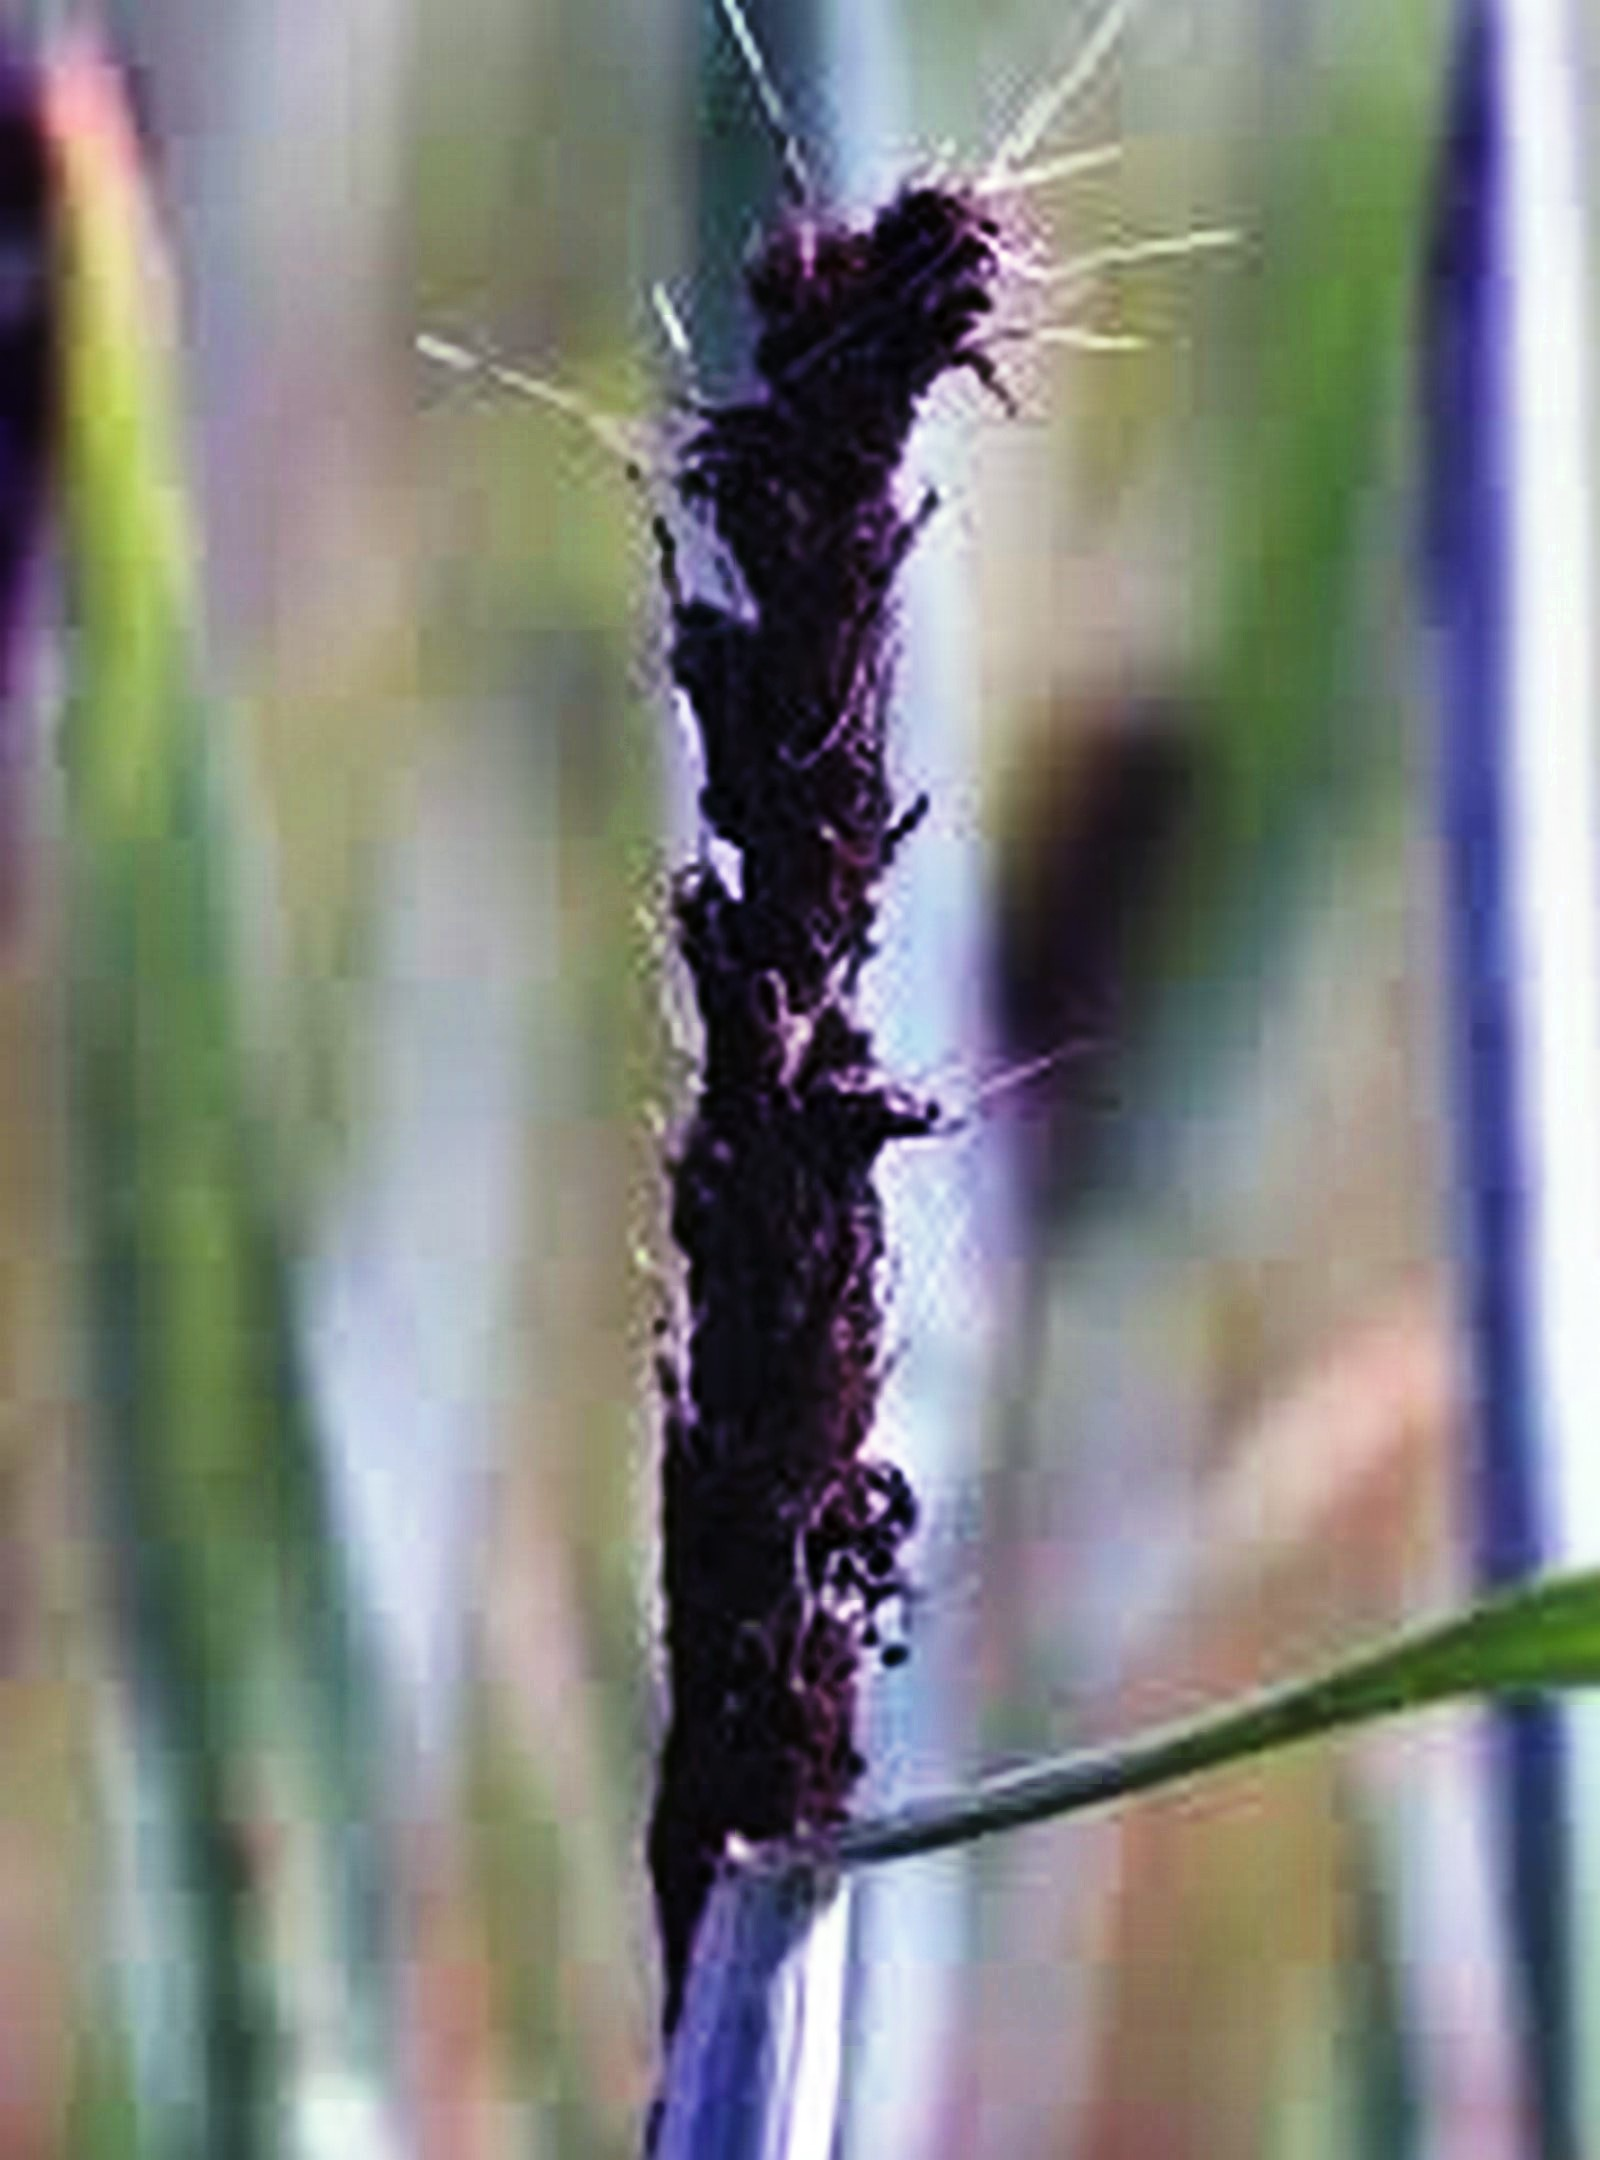Wheat Loose Smut: (560, 129, 1101, 1861)
